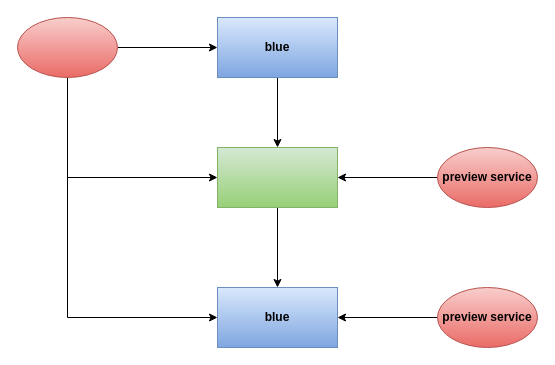
The diagram is 555 pixels wide and 365 high, and some of its shapes have lost their labels. Each missing label, with the centre of its shape:
green: point 277,177
service: point 67,47
